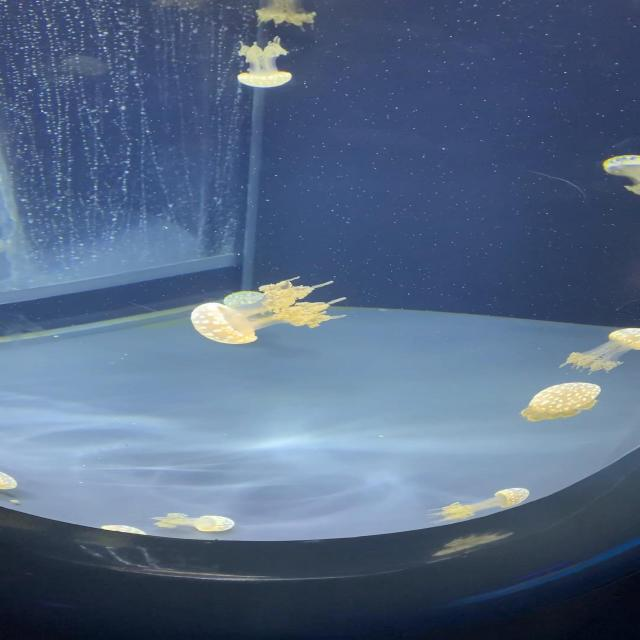jellyfish: (426, 485, 536, 524), (184, 301, 259, 344), (521, 381, 604, 418), (234, 70, 294, 88), (190, 511, 238, 533), (601, 153, 640, 180), (495, 484, 533, 506), (609, 327, 640, 351), (0, 470, 23, 494)
